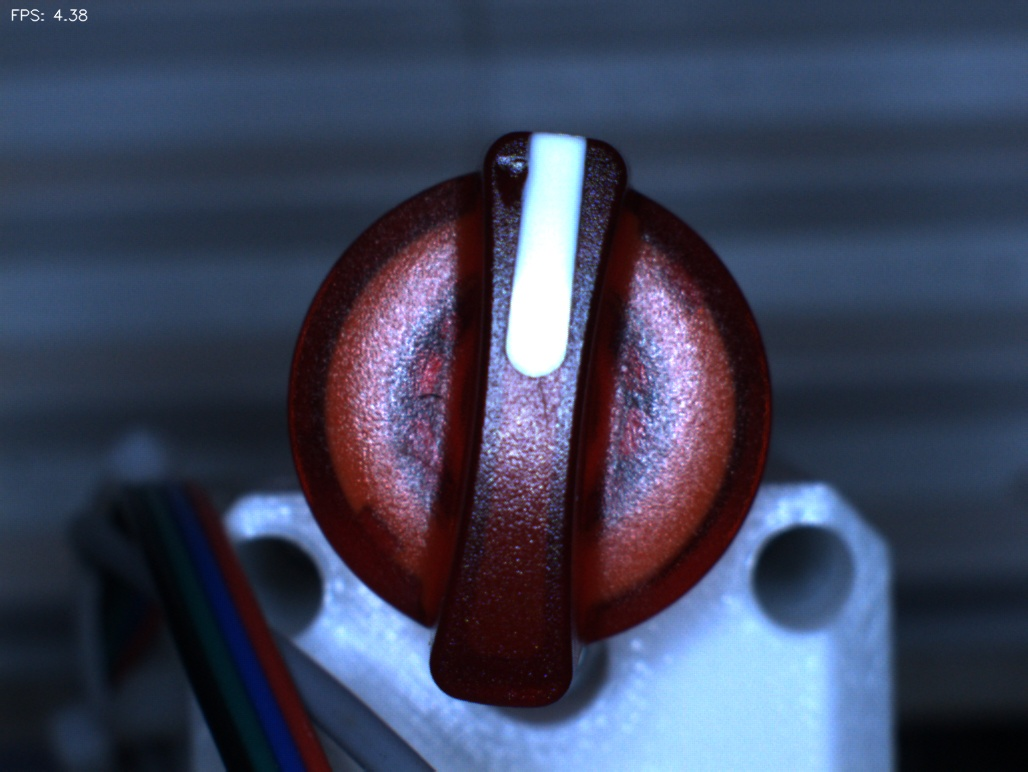Choc: (482, 138, 570, 226)
